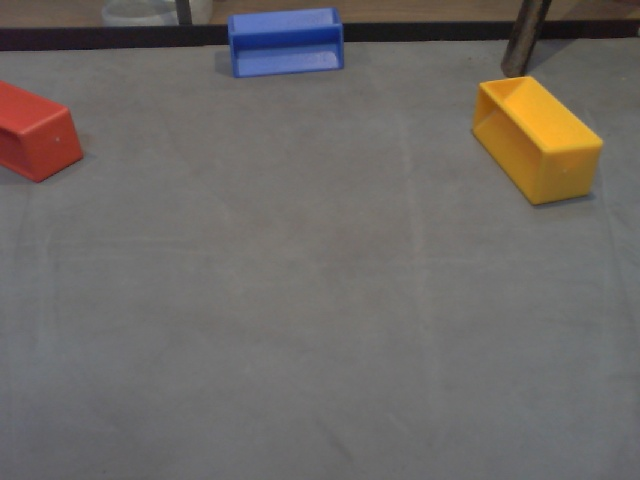BlueSample: (224, 6, 348, 83)
RedSample: (1, 80, 86, 188)
YellowSample: (466, 70, 604, 210)
